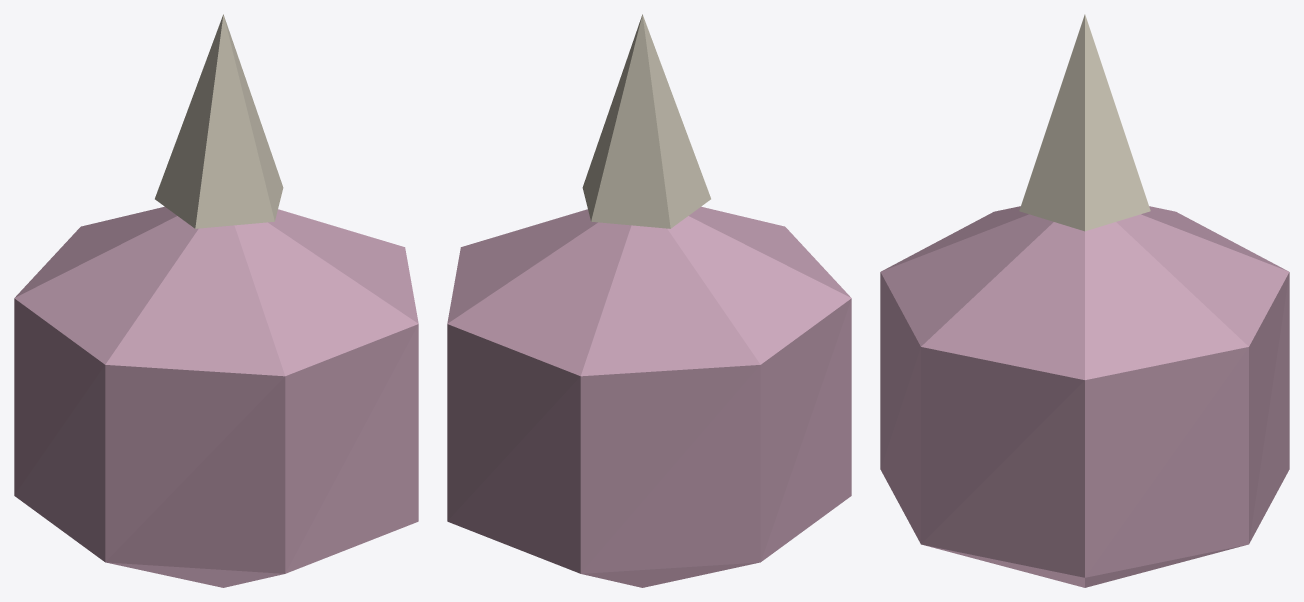
Rendered from onion.glb.
The picture shows the model from 3 angles, left to right: view 1: azimuth 30°, elevation 25°; view 2: azimuth 150°, elevation 25°; view 3: azimuth 270°, elevation 25°; orthographic projection.
Parts seen in each view (by area): view 1: onion; view 2: onion; view 3: onion.
Part boxes in pixels (x1,y1,x2,y2): onion: (14,14,418,587); onion: (447,14,851,587); onion: (880,14,1289,587).
Bounding box in the file's own units: 0.1152 × 0.183 × 0.1182.
